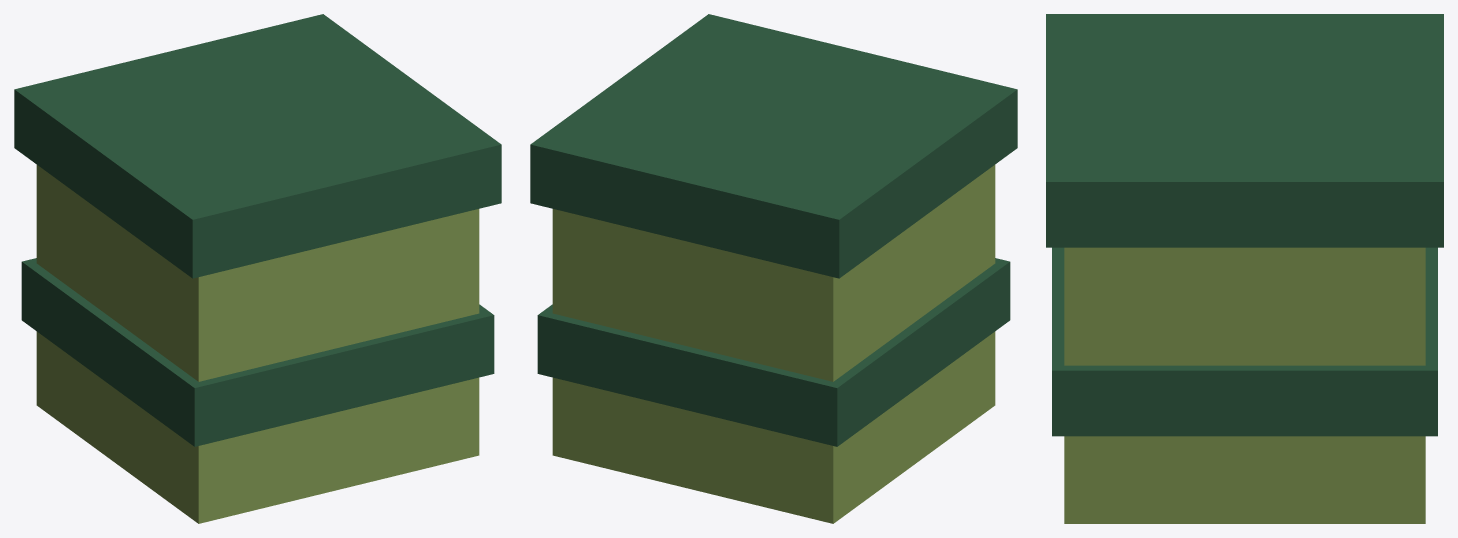
Rendered from crate.glb.
The picture shows the model from 3 angles, left to right: view 1: azimuth 30°, elevation 25°; view 2: azimuth 150°, elevation 25°; view 3: azimuth 270°, elevation 25°; orthographic projection. The views are drawn at different scales.
Visible parts, largest first — view 1: Lid, Box, Band; view 2: Lid, Box, Band; view 3: Lid, Box, Band.
Boxes of the visible parts, x1,y1,x2,y2 form: Lid: (14, 14, 501, 278); Box: (36, 165, 479, 523); Band: (21, 258, 494, 446); Lid: (530, 14, 1017, 278); Box: (552, 165, 995, 523); Band: (537, 258, 1010, 446); Lid: (1046, 14, 1443, 247); Box: (1064, 247, 1425, 523); Band: (1052, 247, 1437, 436).
Size of the model in its own units: 0.66 by 0.64 by 0.66.
